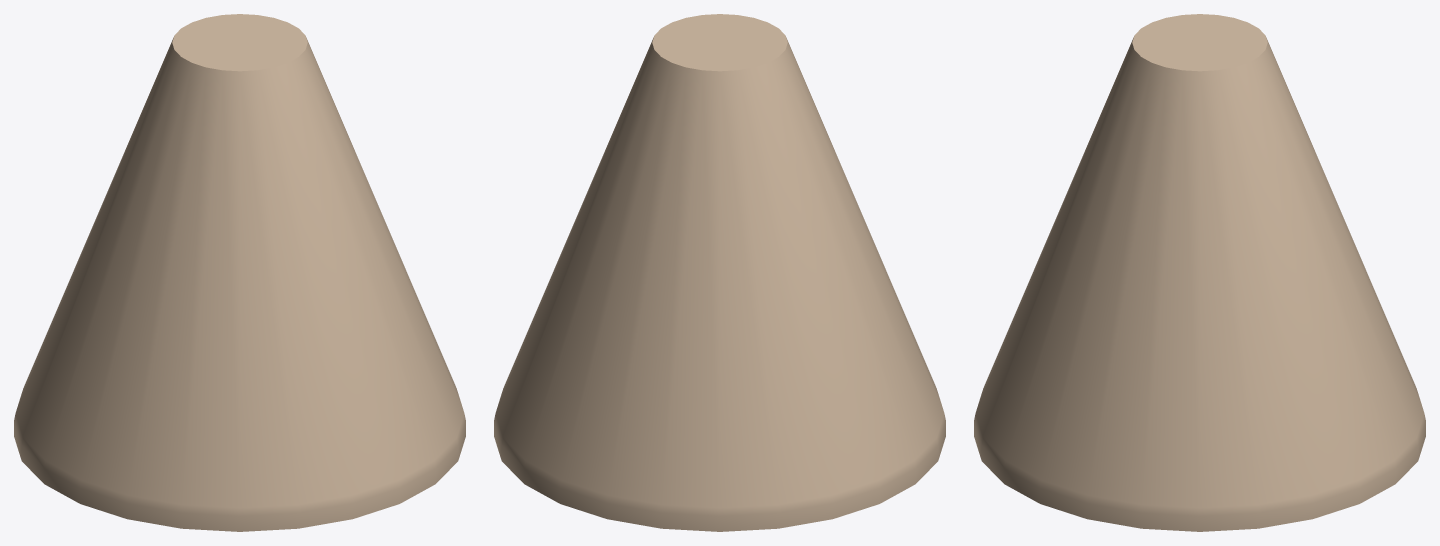
Rendered from normal cone.obj.
3 views of the same model, side by side, from view 1: azimuth 30°, elevation 25°; view 2: azimuth 150°, elevation 25°; view 3: azimuth 270°, elevation 25° (orthographic).
Visible parts, largest first — view 1: normal cone; view 2: normal cone; view 3: normal cone.
Part boxes in pixels (x1,y1,x2,y2): normal cone: (14, 14, 465, 531); normal cone: (494, 14, 945, 531); normal cone: (974, 14, 1425, 531).
Bounding box in the file's own units: 2.6 × 2.5 × 2.6.
